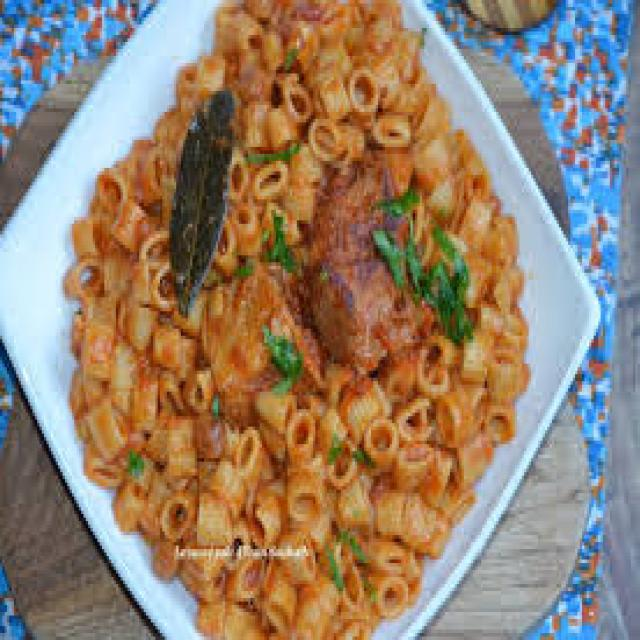Pasta: (59, 8, 521, 604)
